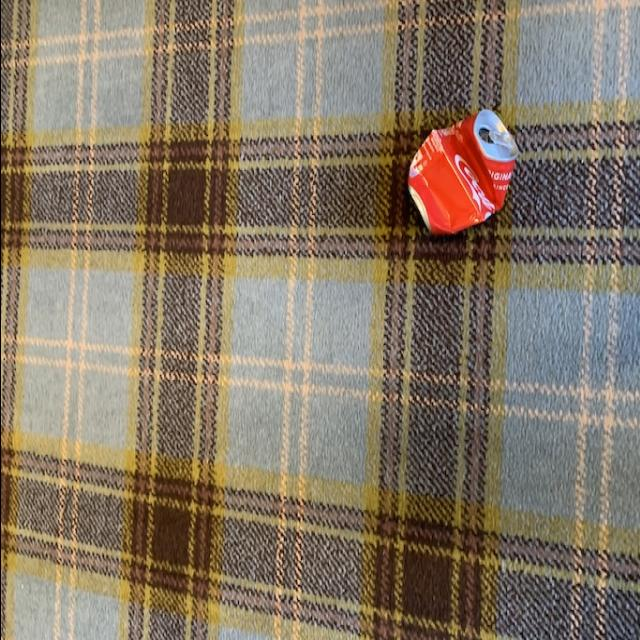Aluminum Can: (402, 108, 514, 240)
